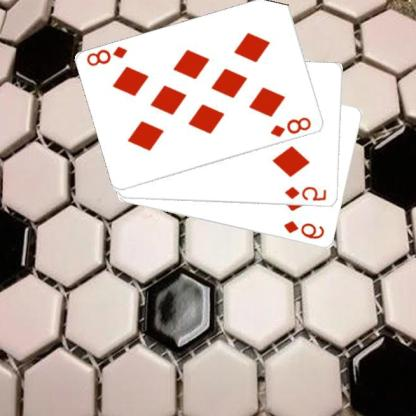5D: (284, 184, 330, 203)
6D: (283, 218, 328, 241)
8D: (269, 114, 315, 139), (86, 43, 131, 68)
